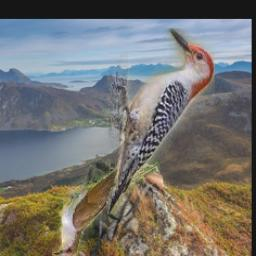Cuckoo: (52, 159, 165, 256)
Woodpecker: (108, 29, 216, 215)
